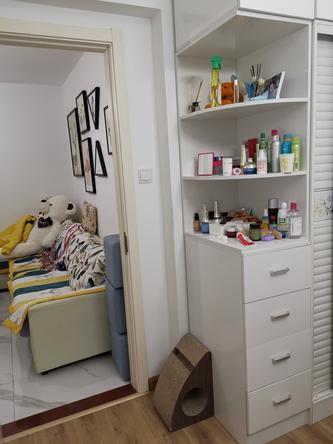switch: (138, 163, 153, 182)
